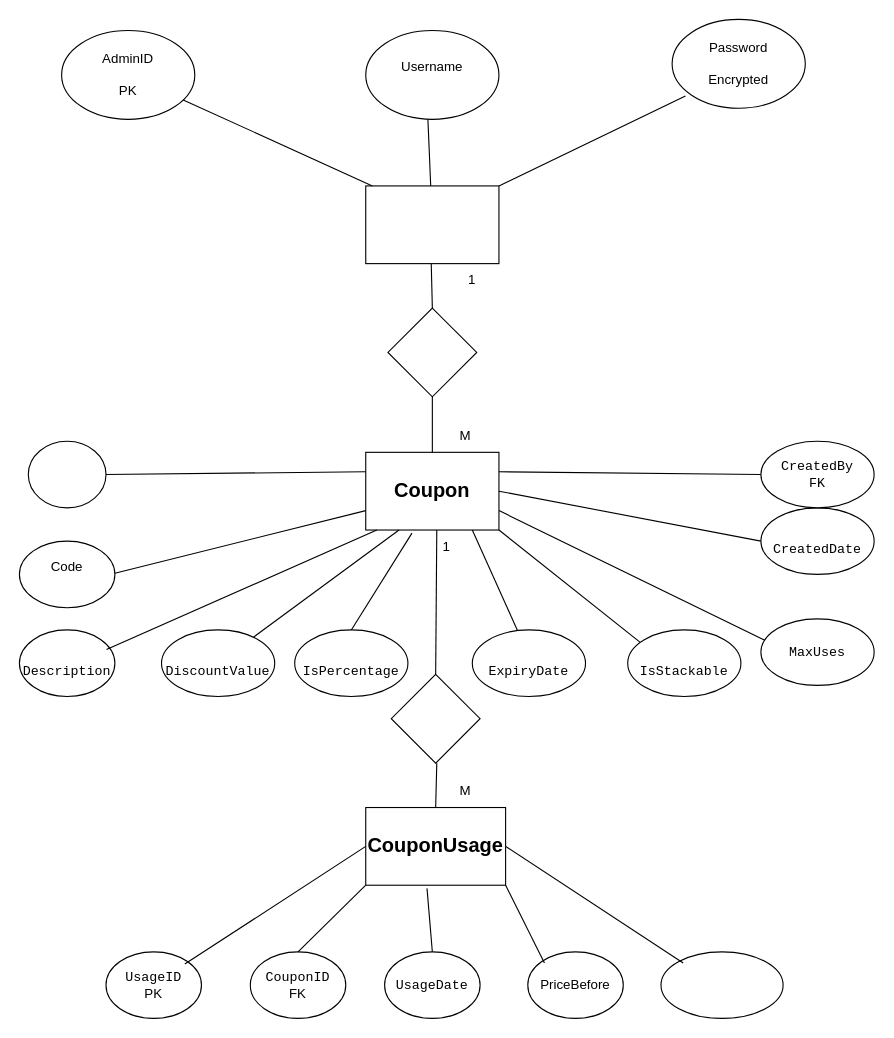
This 894x1038 diagram has some shape labels left out. Each missing label, with the box of its shape:
Admin: (365, 185, 499, 264)
CouponID PK: (27, 440, 106, 508)
Create: (387, 307, 477, 397)
DiscountAmount: (660, 951, 783, 1018)
Use: (390, 673, 480, 763)
